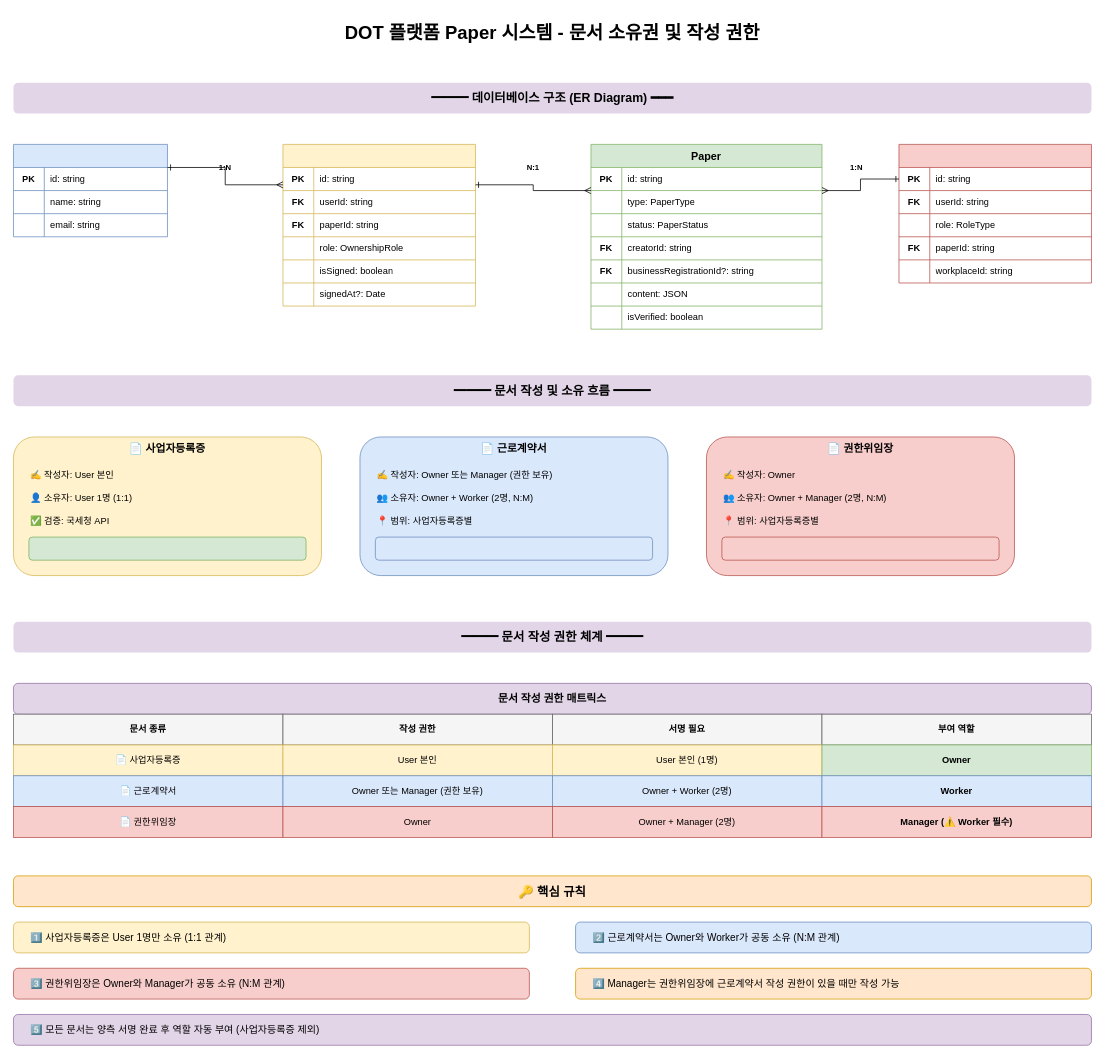
The diagram is 1105 pixels wide and 1059 high, and some of its shapes have lost their labels. The box of each missing label's shape, as (x1, y1, x2, y2) in pixels:
PaperOwnership: (282, 144, 475, 306)
User: (13, 144, 167, 237)
UserRole: (898, 144, 1091, 283)
🎭 역할: Manager (⚠️ Worker 필수): (721, 536, 999, 560)
🎭 역할: Owner: (28, 536, 306, 560)
🎭 역할: Worker: (375, 536, 653, 560)
